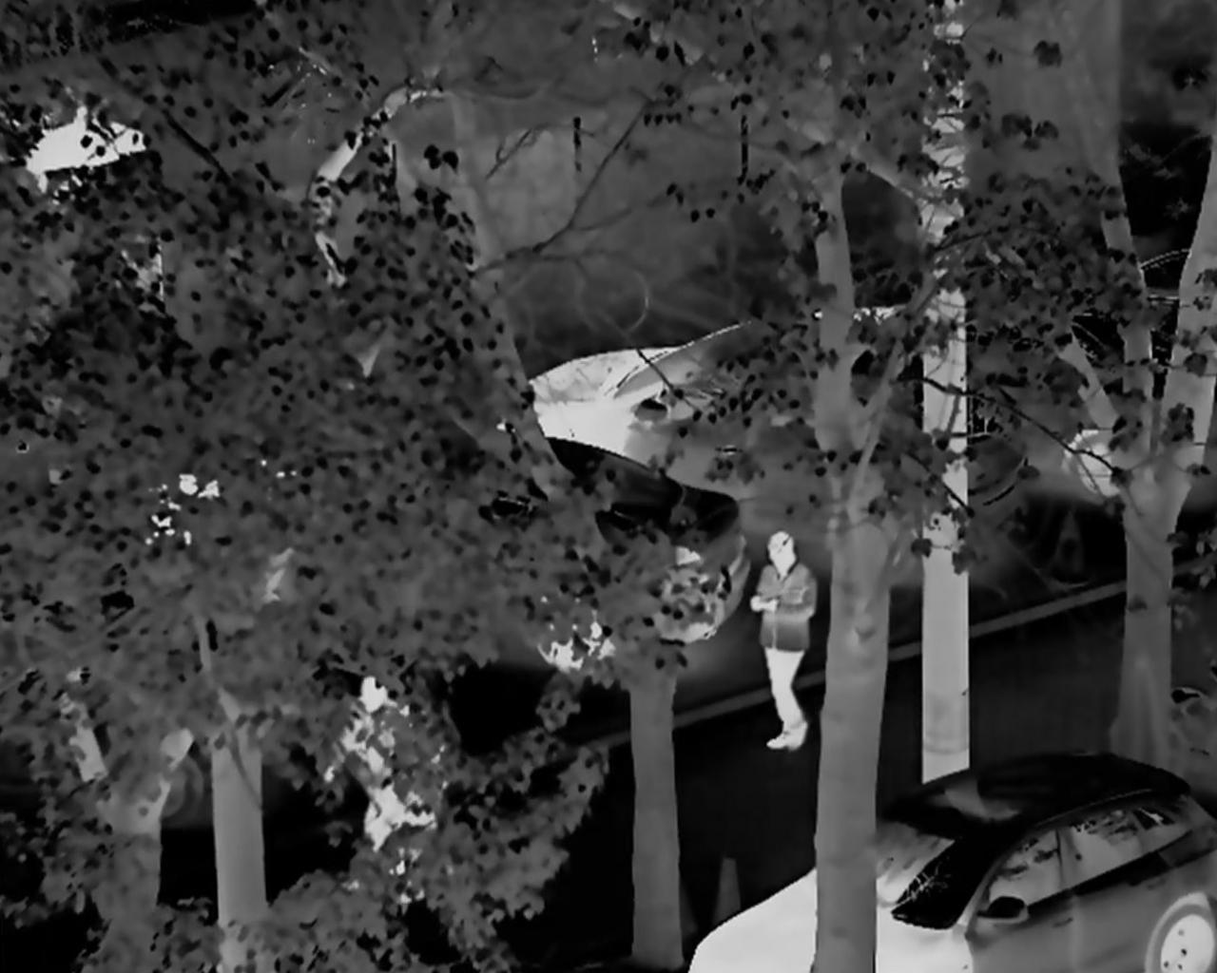person: (324, 672, 442, 902), (744, 525, 822, 763)
